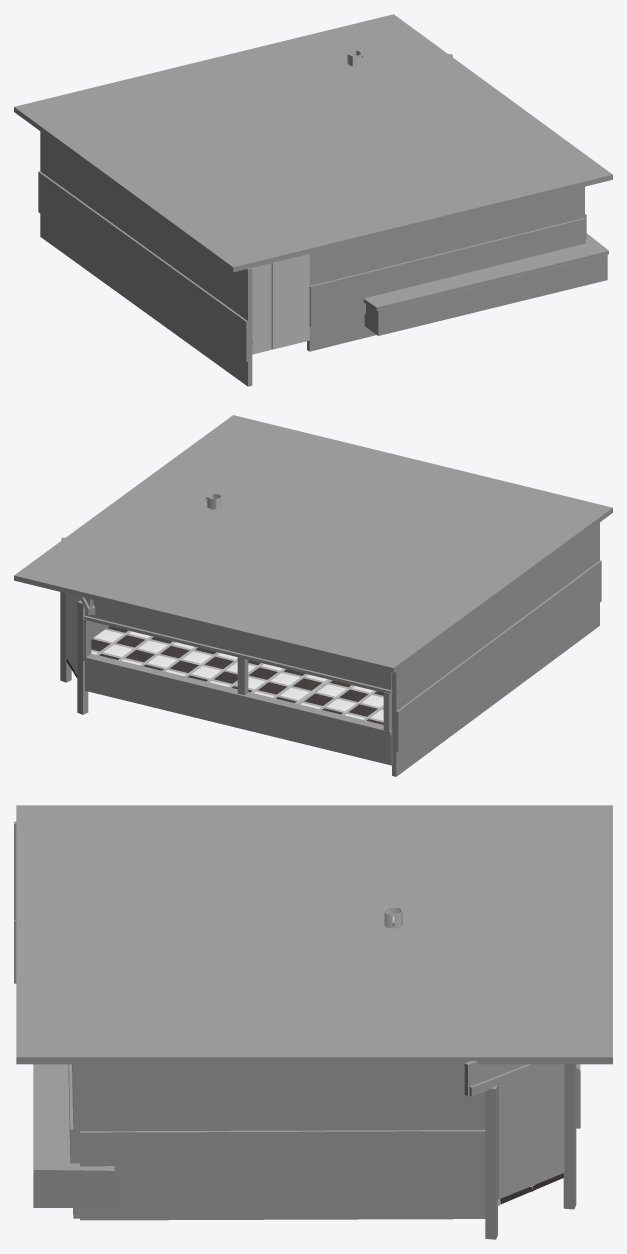
Rendered from Diner-1.fbx.
3 renders of one model, top to bottom at view 1: azimuth 30°, elevation 25°; view 2: azimuth 150°, elevation 25°; view 3: azimuth 270°, elevation 25°, orthographic. The views are drawn at different scales.
Parts seen in each view (by area): view 1: pPlane6, pCube24, pCube23, pCube29, pCube32, pCube52; view 2: pPlane6, pCube24, pCube16, pPlane5, pCube17, pCube27, pCube18; view 3: pPlane6, pCube22, pCube27, pCube29, pCube18, pCube17, pCube23, pCube26, pCube25.
Boxes of the visible parts, x1,y1,x2,y2 form: pPlane6: (14,14,612,272); pCube24: (38,131,253,386); pCube23: (307,186,585,351); pCube29: (363,233,608,335); pCube32: (271,254,309,349); pCube52: (252,263,271,354); pPlane6: (14,415,612,673); pCube24: (391,522,601,776); pCube16: (83,598,392,765); pPlane5: (64,626,383,724); pCube17: (77,600,88,714); pCube27: (66,593,80,675); pCube18: (60,592,71,682); pPlane6: (16,805,612,1064); pCube22: (80,1064,485,1220); pCube27: (498,1064,564,1199); pCube29: (33,1064,114,1207); pCube18: (485,1085,497,1239); pCube17: (563,1064,576,1209); pCube23: (68,1064,79,1218); pCube26: (464,1061,526,1095); pCube25: (469,1064,553,1096).
Size of the model in its own units: 44.89 by 20.57 by 44.37.
